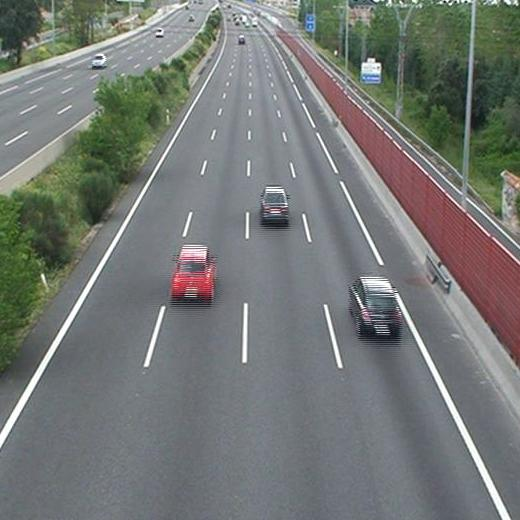car: (350, 277, 400, 334), (172, 246, 214, 298), (261, 187, 289, 221), (237, 36, 244, 44)
